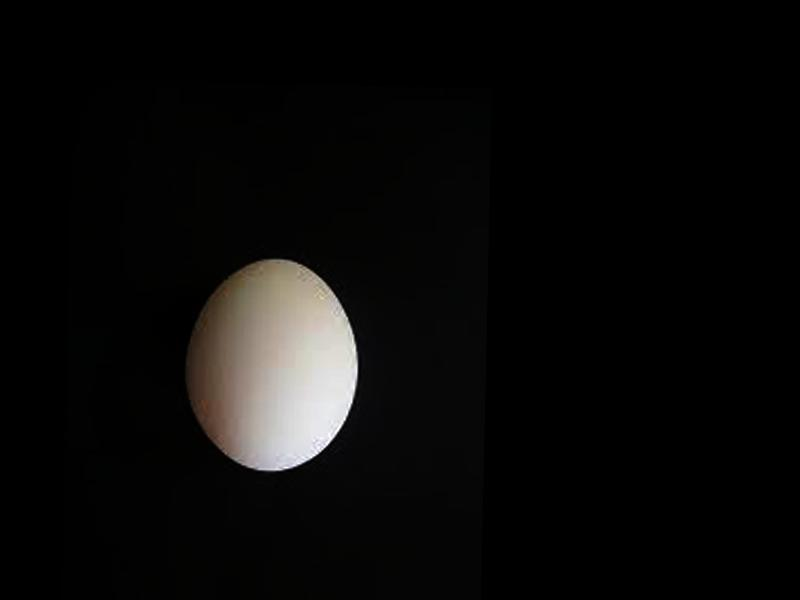Eggs: (184, 254, 360, 468)
